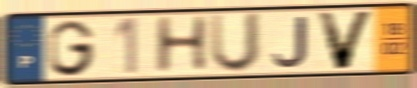1: (110, 16, 139, 78)
G: (46, 18, 97, 78)
H: (152, 13, 211, 76)
J: (270, 14, 310, 69)
U: (208, 11, 264, 76)
V: (314, 9, 378, 72)
